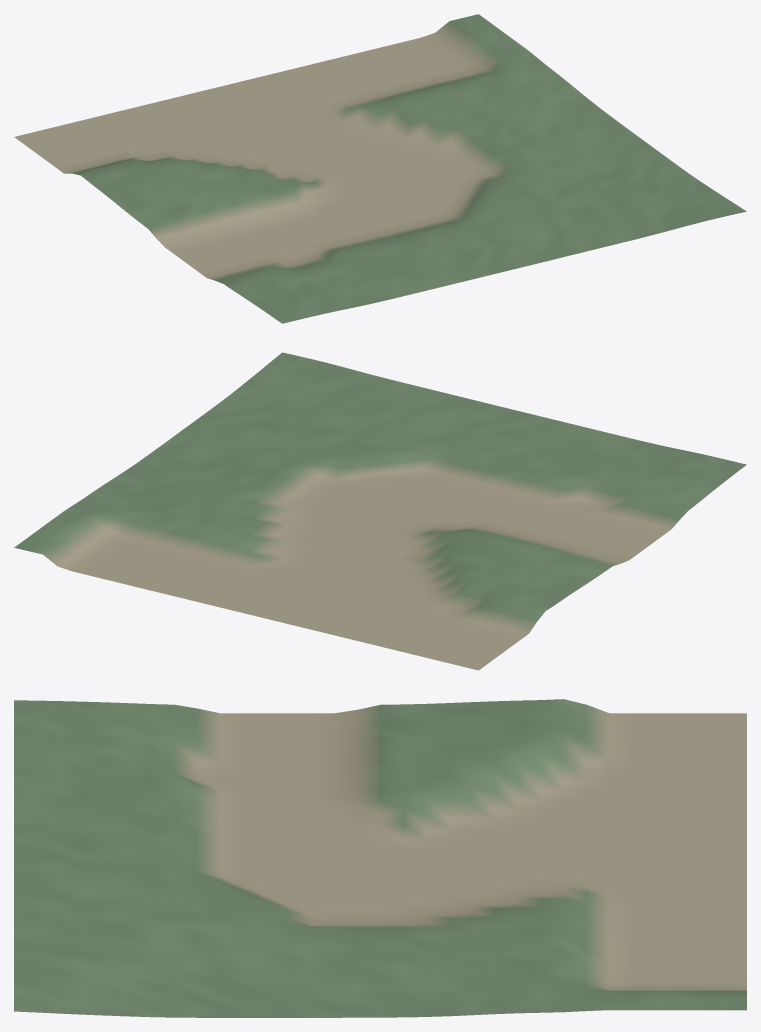
The picture shows the model from 3 angles, top to bottom: view 1: azimuth 30°, elevation 25°; view 2: azimuth 150°, elevation 25°; view 3: azimuth 270°, elevation 25°; orthographic projection. The views are drawn at different scales.
Parts seen in each view (by area): view 1: Terrain-col; view 2: Terrain-col; view 3: Terrain-col.
Boxes of the visible parts, left/top/right/bottom form: Terrain-col: left=14, top=14, right=746, bottom=323; Terrain-col: left=14, top=352, right=746, bottom=670; Terrain-col: left=14, top=699, right=746, bottom=1017.
Bounding box in the file's own units: 256 × 6.65 × 256.
